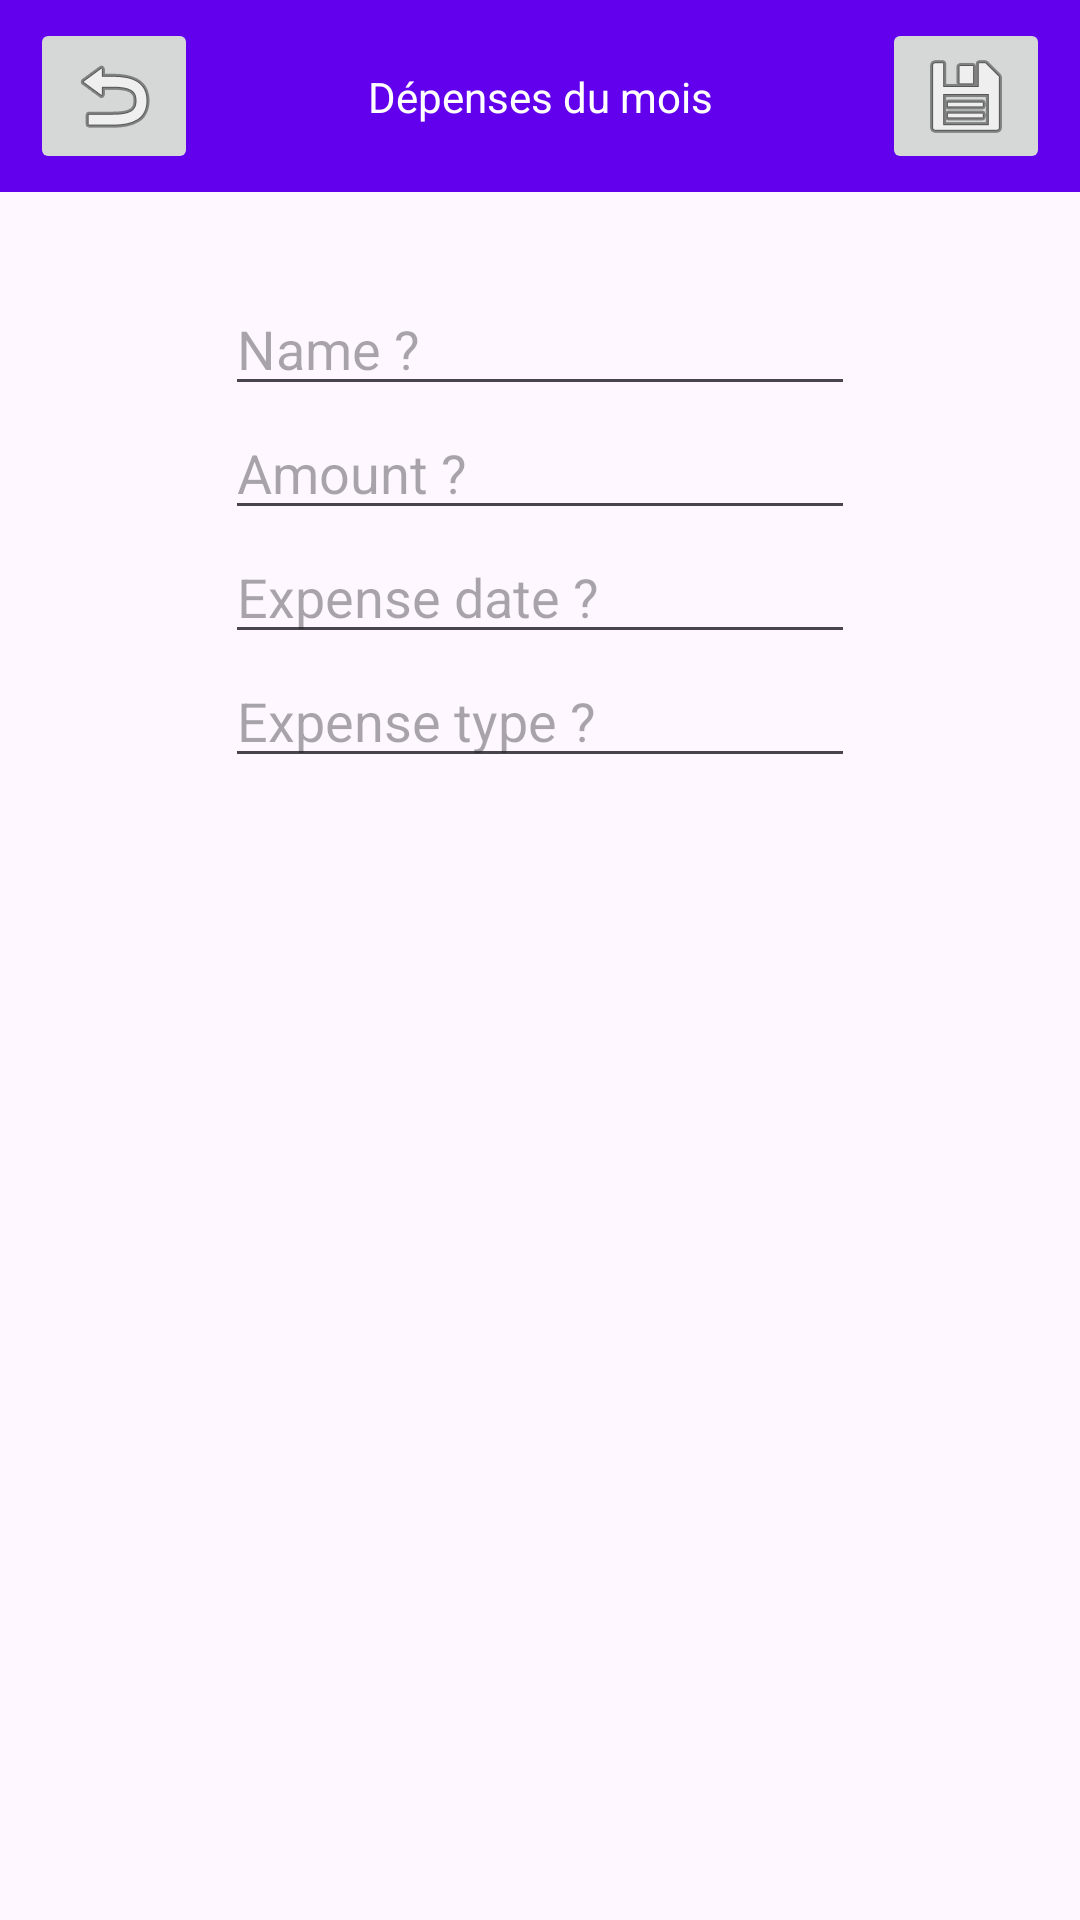

Named icons in this screenshot (1080 x 1920) and their bounding boxes, (x1, y1, x2, y2):
revert: (42, 36, 186, 156)
save: (894, 36, 1038, 156)
